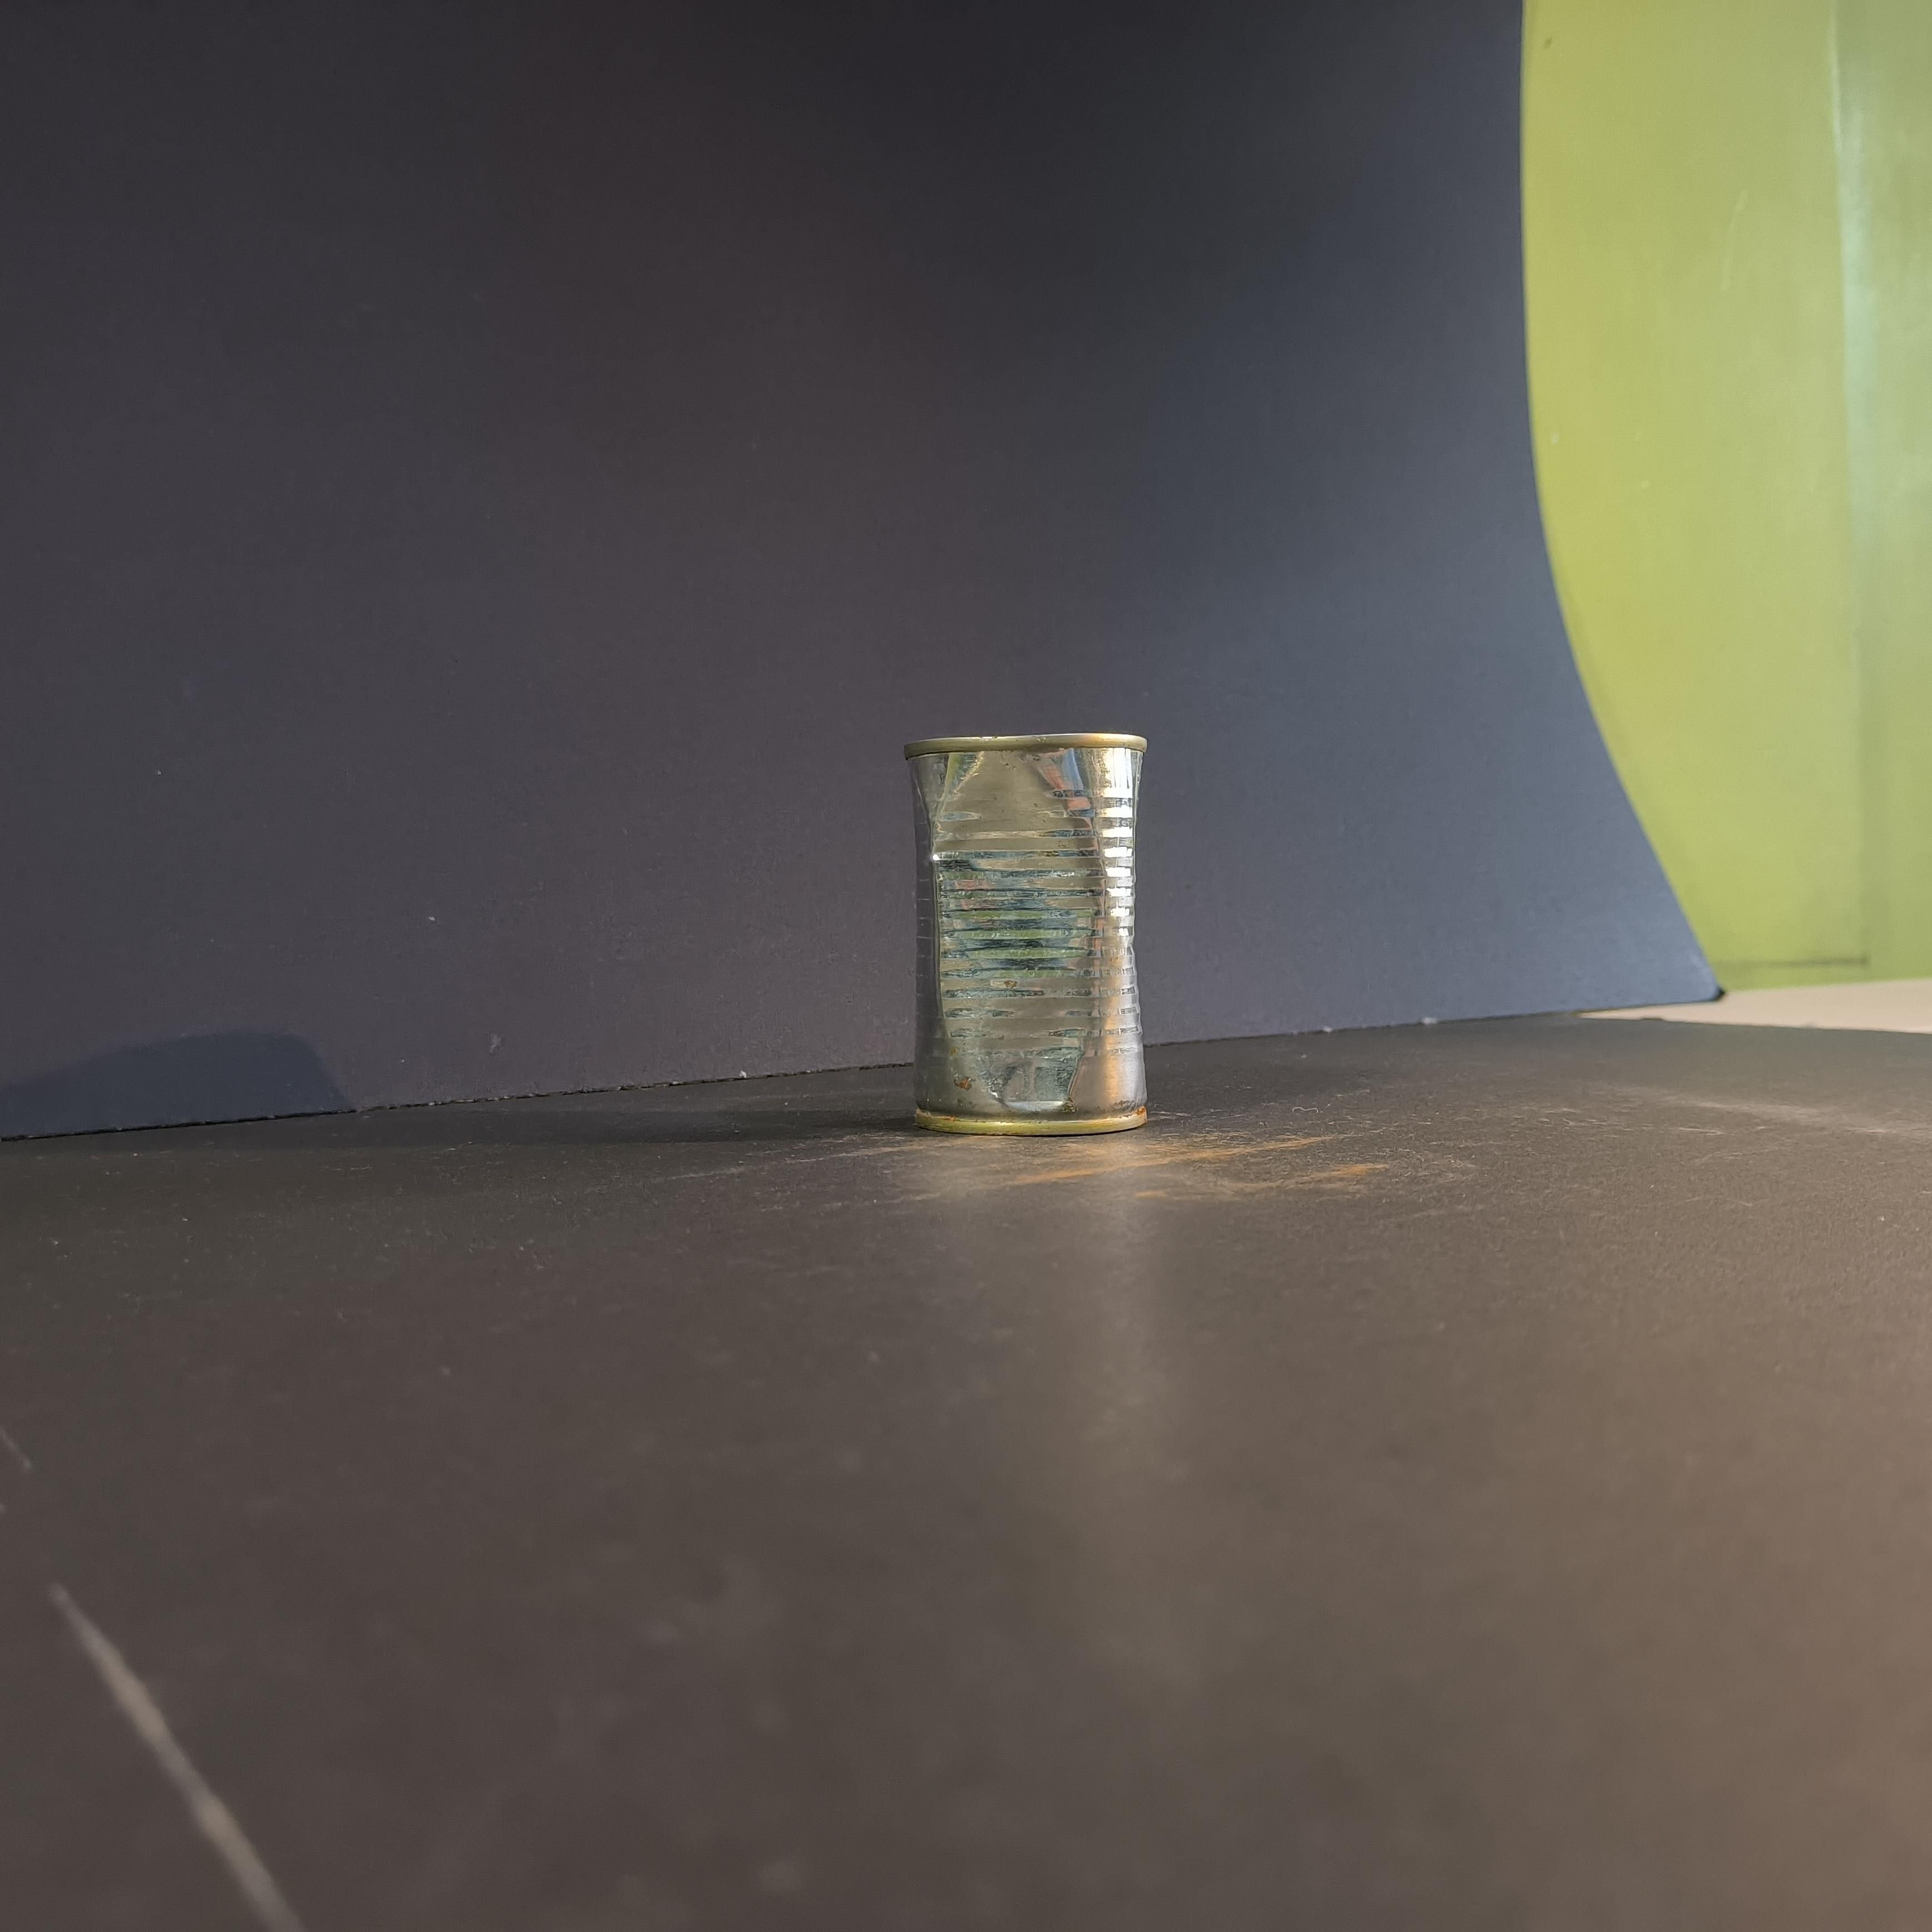Dented: (874, 701, 1177, 1152)
